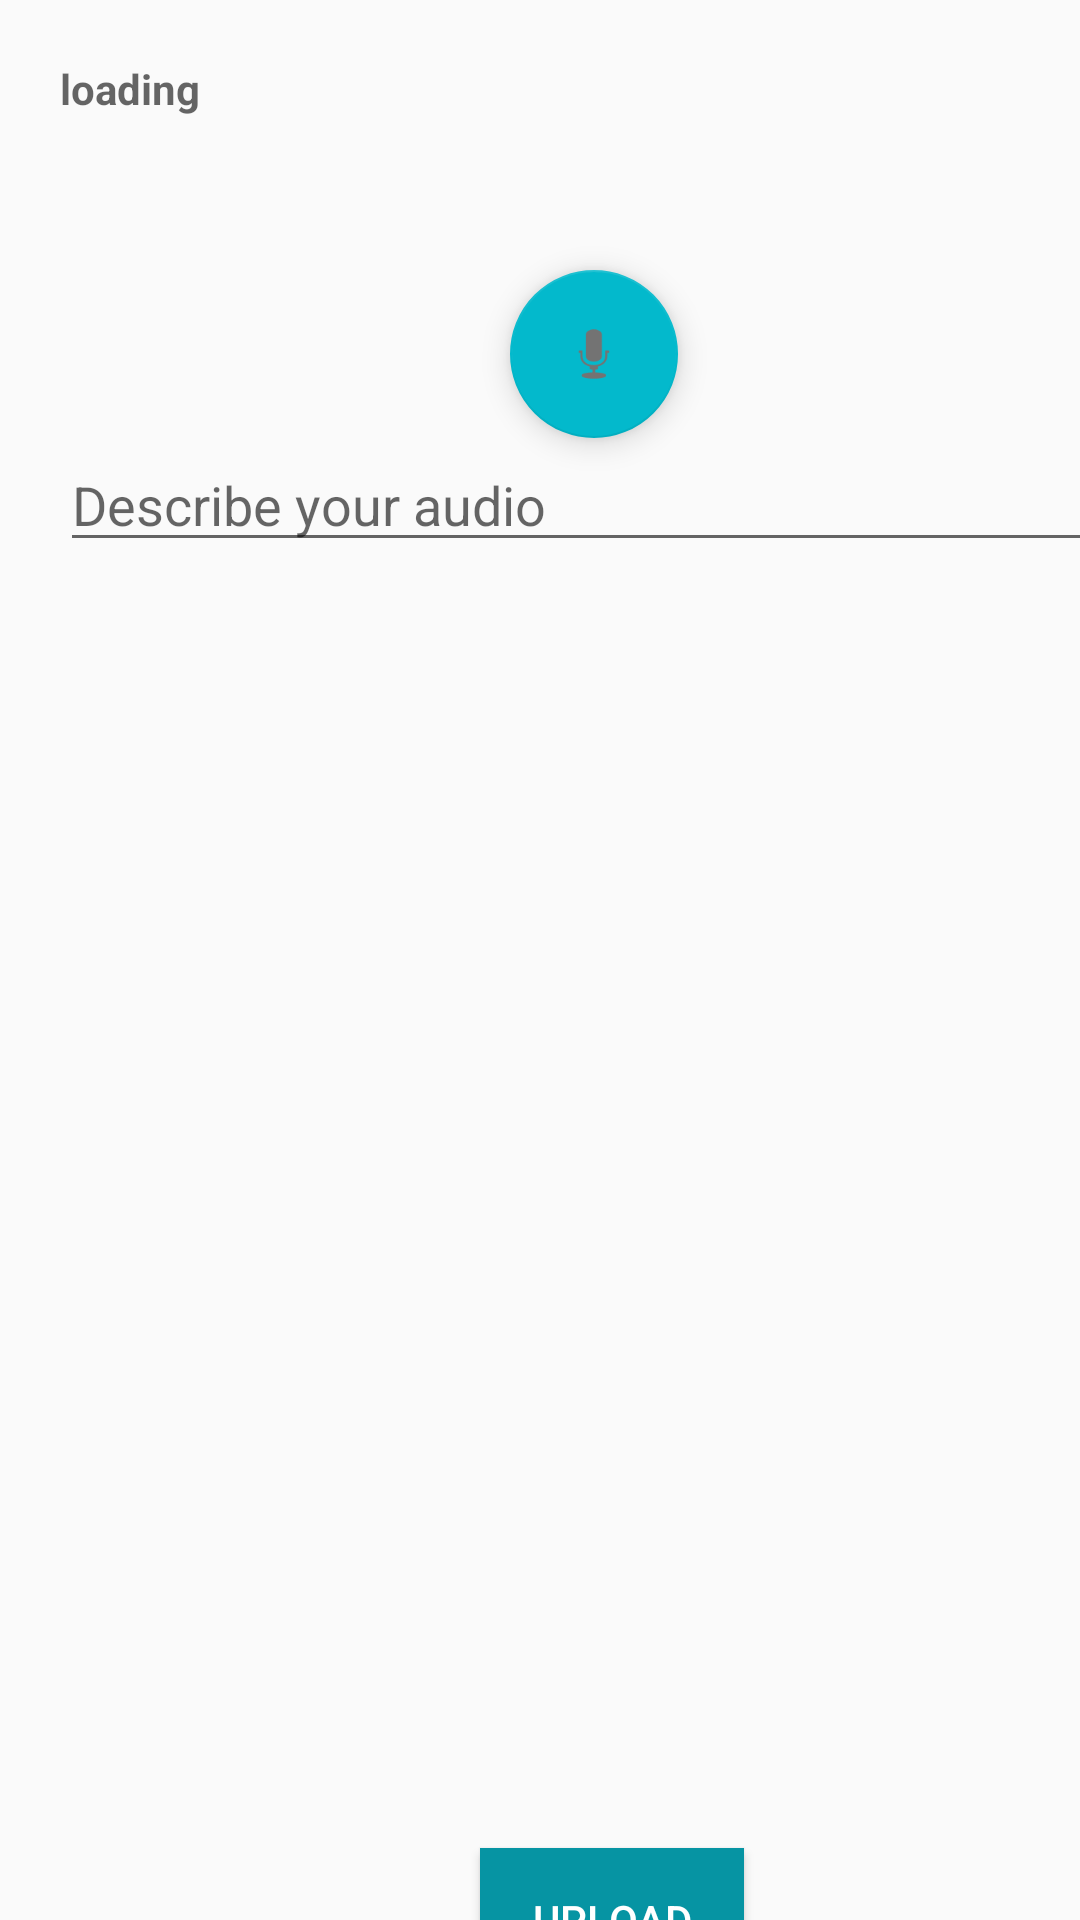

Screen size 1080 × 1920. Icon name, then its box in pixels as [x1=x1, y1=y1, x2=x2, y2=y2]:
speak now: [x1=510, y1=270, x2=678, y2=438]
